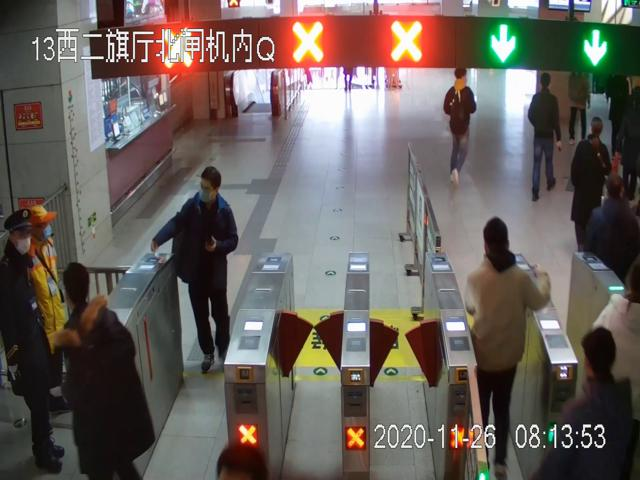person: (465, 216, 535, 479), (0, 208, 67, 473), (161, 168, 237, 372)
